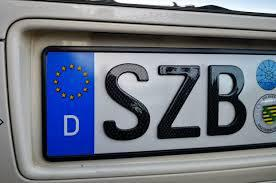B: (204, 65, 248, 136)
S: (99, 63, 157, 142)
Z: (155, 63, 203, 141)
